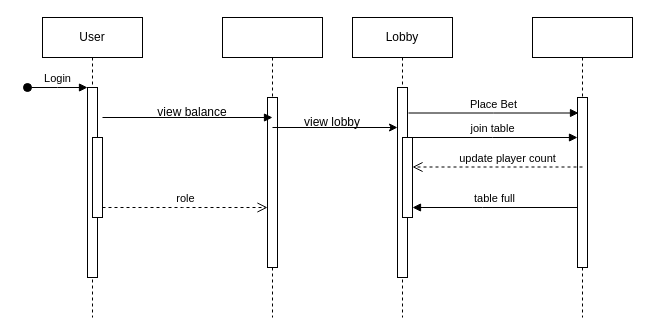
The diagram is 650 pixels wide and 335 high, and some of its shapes have lost their labels. Each missing label, with the box of its shape:
Account: (222, 16, 322, 318)
Table: (532, 16, 632, 318)
